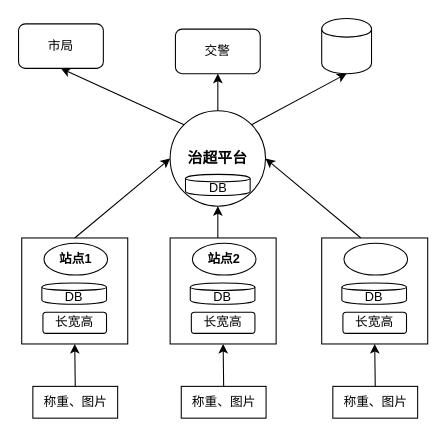
Image size: 446x437. Some labels were removed from this diagram. The shapes that lost their labels are listed below. From the top down, each one's centre as x and y in pixels, then its label:
At (346,45): "易华录".
At (375,258): "站点N...".
